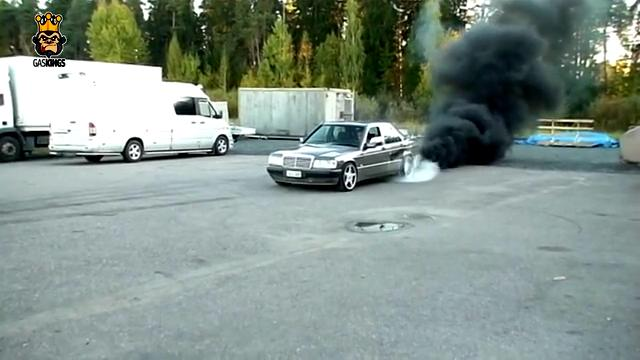smoke: (419, 1, 608, 169)
